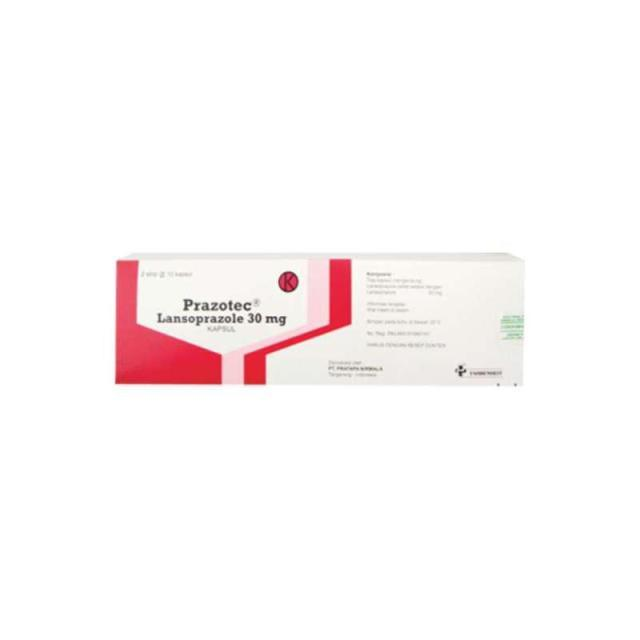drug-name: (183, 294, 262, 312)
